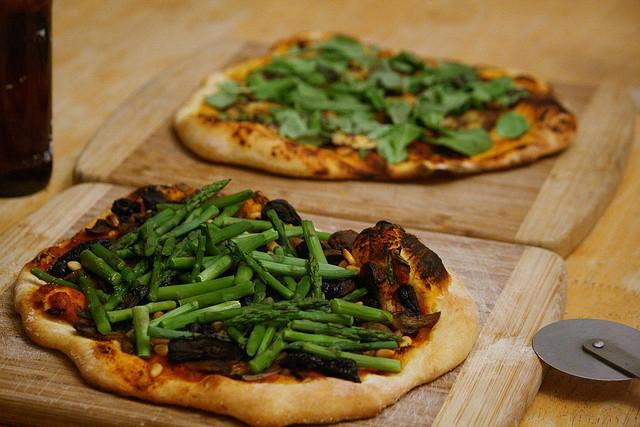asparagus: (110, 204, 220, 260), (75, 257, 148, 320), (154, 180, 231, 237), (112, 276, 236, 310), (227, 239, 293, 298), (281, 341, 401, 372), (199, 298, 330, 326), (197, 235, 267, 282), (30, 266, 111, 304), (109, 208, 174, 254), (248, 251, 346, 281), (130, 300, 198, 341), (291, 320, 404, 342), (159, 301, 241, 330), (178, 281, 255, 311), (75, 271, 111, 335), (156, 189, 256, 212), (189, 220, 254, 255), (258, 260, 358, 280), (282, 322, 360, 346), (249, 332, 288, 374), (329, 298, 392, 324), (266, 209, 299, 257), (247, 297, 273, 356), (79, 250, 121, 286), (272, 310, 354, 326), (300, 220, 328, 264), (222, 217, 302, 230), (147, 242, 164, 302), (132, 306, 151, 359), (254, 321, 281, 358), (92, 244, 125, 270), (328, 340, 398, 352), (146, 326, 202, 339), (200, 223, 222, 256), (140, 222, 160, 256), (169, 256, 215, 270), (308, 253, 322, 298), (234, 262, 256, 286), (158, 270, 192, 284), (132, 269, 153, 290), (161, 237, 177, 256), (182, 231, 196, 242)
